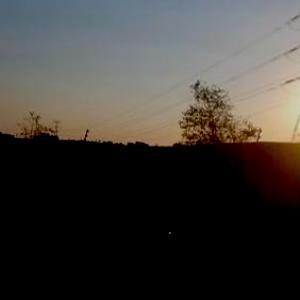follow: (119, 161, 181, 299)
